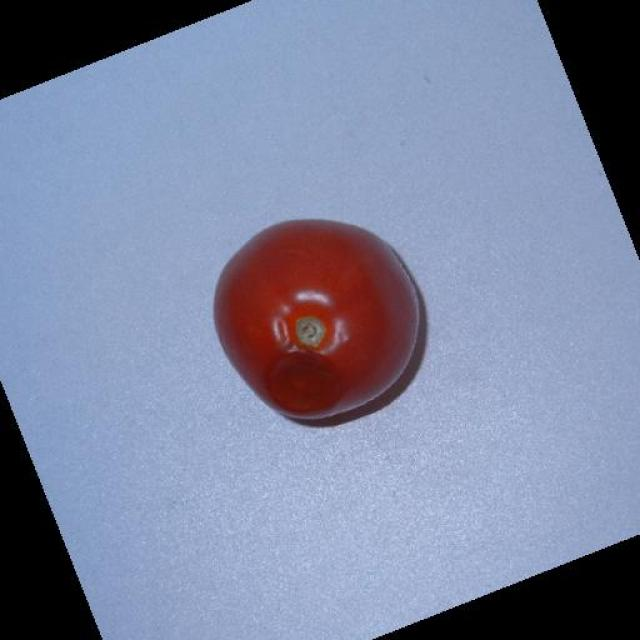Stale_tomato: (200, 196, 437, 430)
